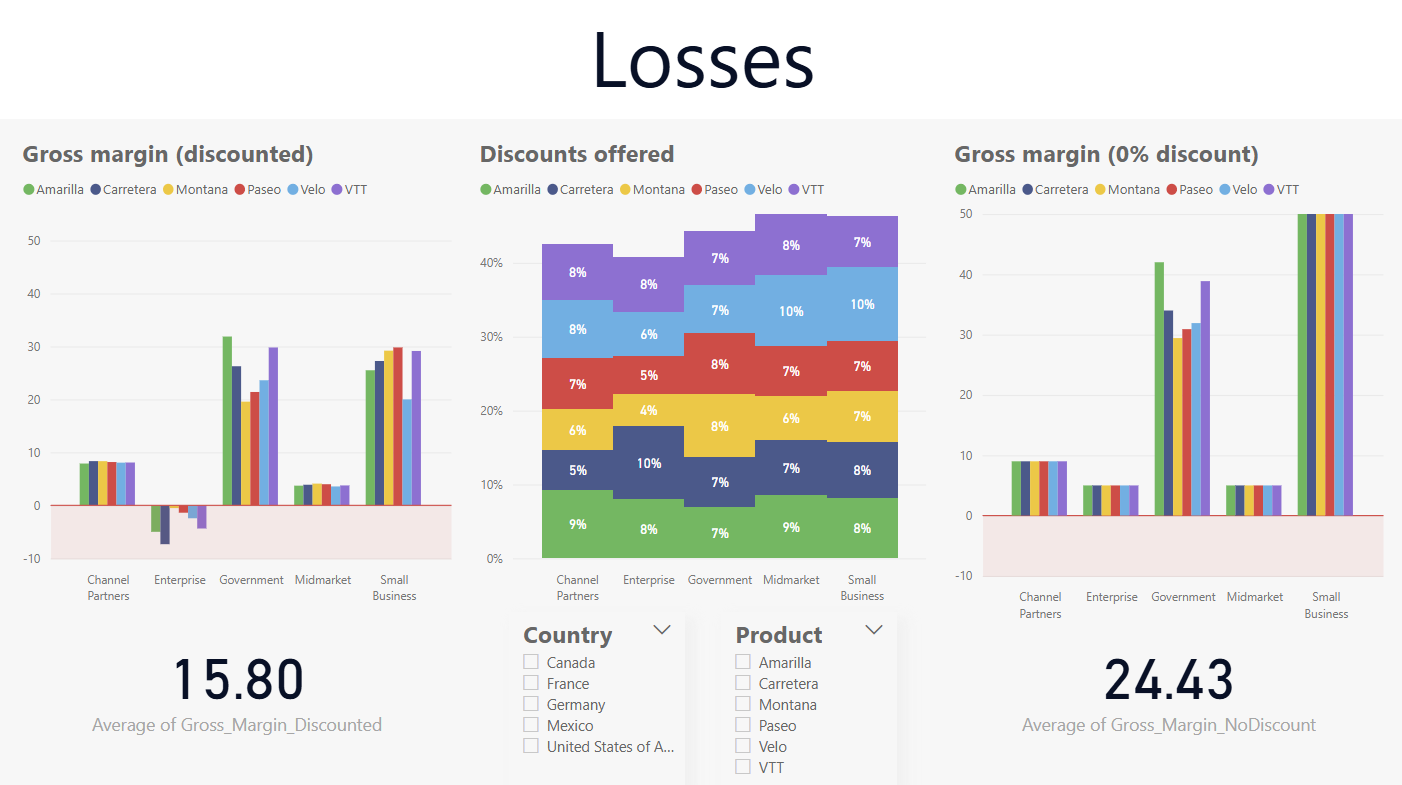

This screenshot's page, from the dashboard's own definition file:
{"tool":"powerbi","page":{"name":"Losses","canvas":[1280,720],"ordinal":3},"visuals":[{"type":"shape","box":[0,112,1280,608],"z":0},{"type":"textbox","box":[432,0,416,112],"z":1000},{"type":"clusteredColumnChart","title":"Gross margin (discounted)","fields":{"Category":["financials.Segment"],"Series":["financials.Product"],"Y":["Avg(financials.Difference_UnitSalePrice_UnitCOGS_Discounted)"]},"box":[16,128,400,432],"z":3000},{"type":"clusteredColumnChart","title":"Gross margin (0% discount)","fields":{"Category":["financials.Segment"],"Series":["financials.Product"],"Y":["Avg(financials.Difference_UnitSalePrice_UnitCOGS_NoDiscount)"]},"box":[864,128,400,448],"z":4000},{"type":"columnChart","title":"Discounts offered","fields":{"Category":["financials.Segment"],"Series":["financials.Product"],"Y":["Avg(financials.Discount_Rate)"]},"box":[432,128,416,432],"z":5000},{"type":"slicer","fields":{"Values":["financials.Product"]},"box":[656,560,160,160],"z":6000},{"type":"card","fields":{"Values":["Avg(financials.Difference_UnitSalePrice_UnitCOGS_NoDiscount)"]},"box":[864,576,400,112],"z":7000},{"type":"card","fields":{"Values":["Avg(financials.Difference_UnitSalePrice_UnitCOGS_Discounted)"]},"box":[16,576,400,112],"z":8000},{"type":"slicer","fields":{"Values":["financials.Country"]},"box":[464,560,160,160],"z":9000}]}

Visuals, with their boxes in screenshot pixels (x1, y1, x2, y2), scaled from the page's 1280x720 canvas onto the 1402x785 screenshot:
shape: bbox=(0, 122, 1401, 784)
textbox: bbox=(473, 0, 929, 122)
"Gross margin (discounted)" clusteredColumnChart: bbox=(18, 140, 456, 611)
"Gross margin (0% discount)" clusteredColumnChart: bbox=(946, 140, 1384, 628)
"Discounts offered" columnChart: bbox=(473, 140, 929, 611)
slicer - financials.Product: bbox=(719, 611, 894, 784)
card - Avg(financials.Difference_UnitSalePrice_UnitCOGS_NoDiscount): bbox=(946, 628, 1384, 750)
card - Avg(financials.Difference_UnitSalePrice_UnitCOGS_Discounted): bbox=(18, 628, 456, 750)
slicer - financials.Country: bbox=(508, 611, 683, 784)
